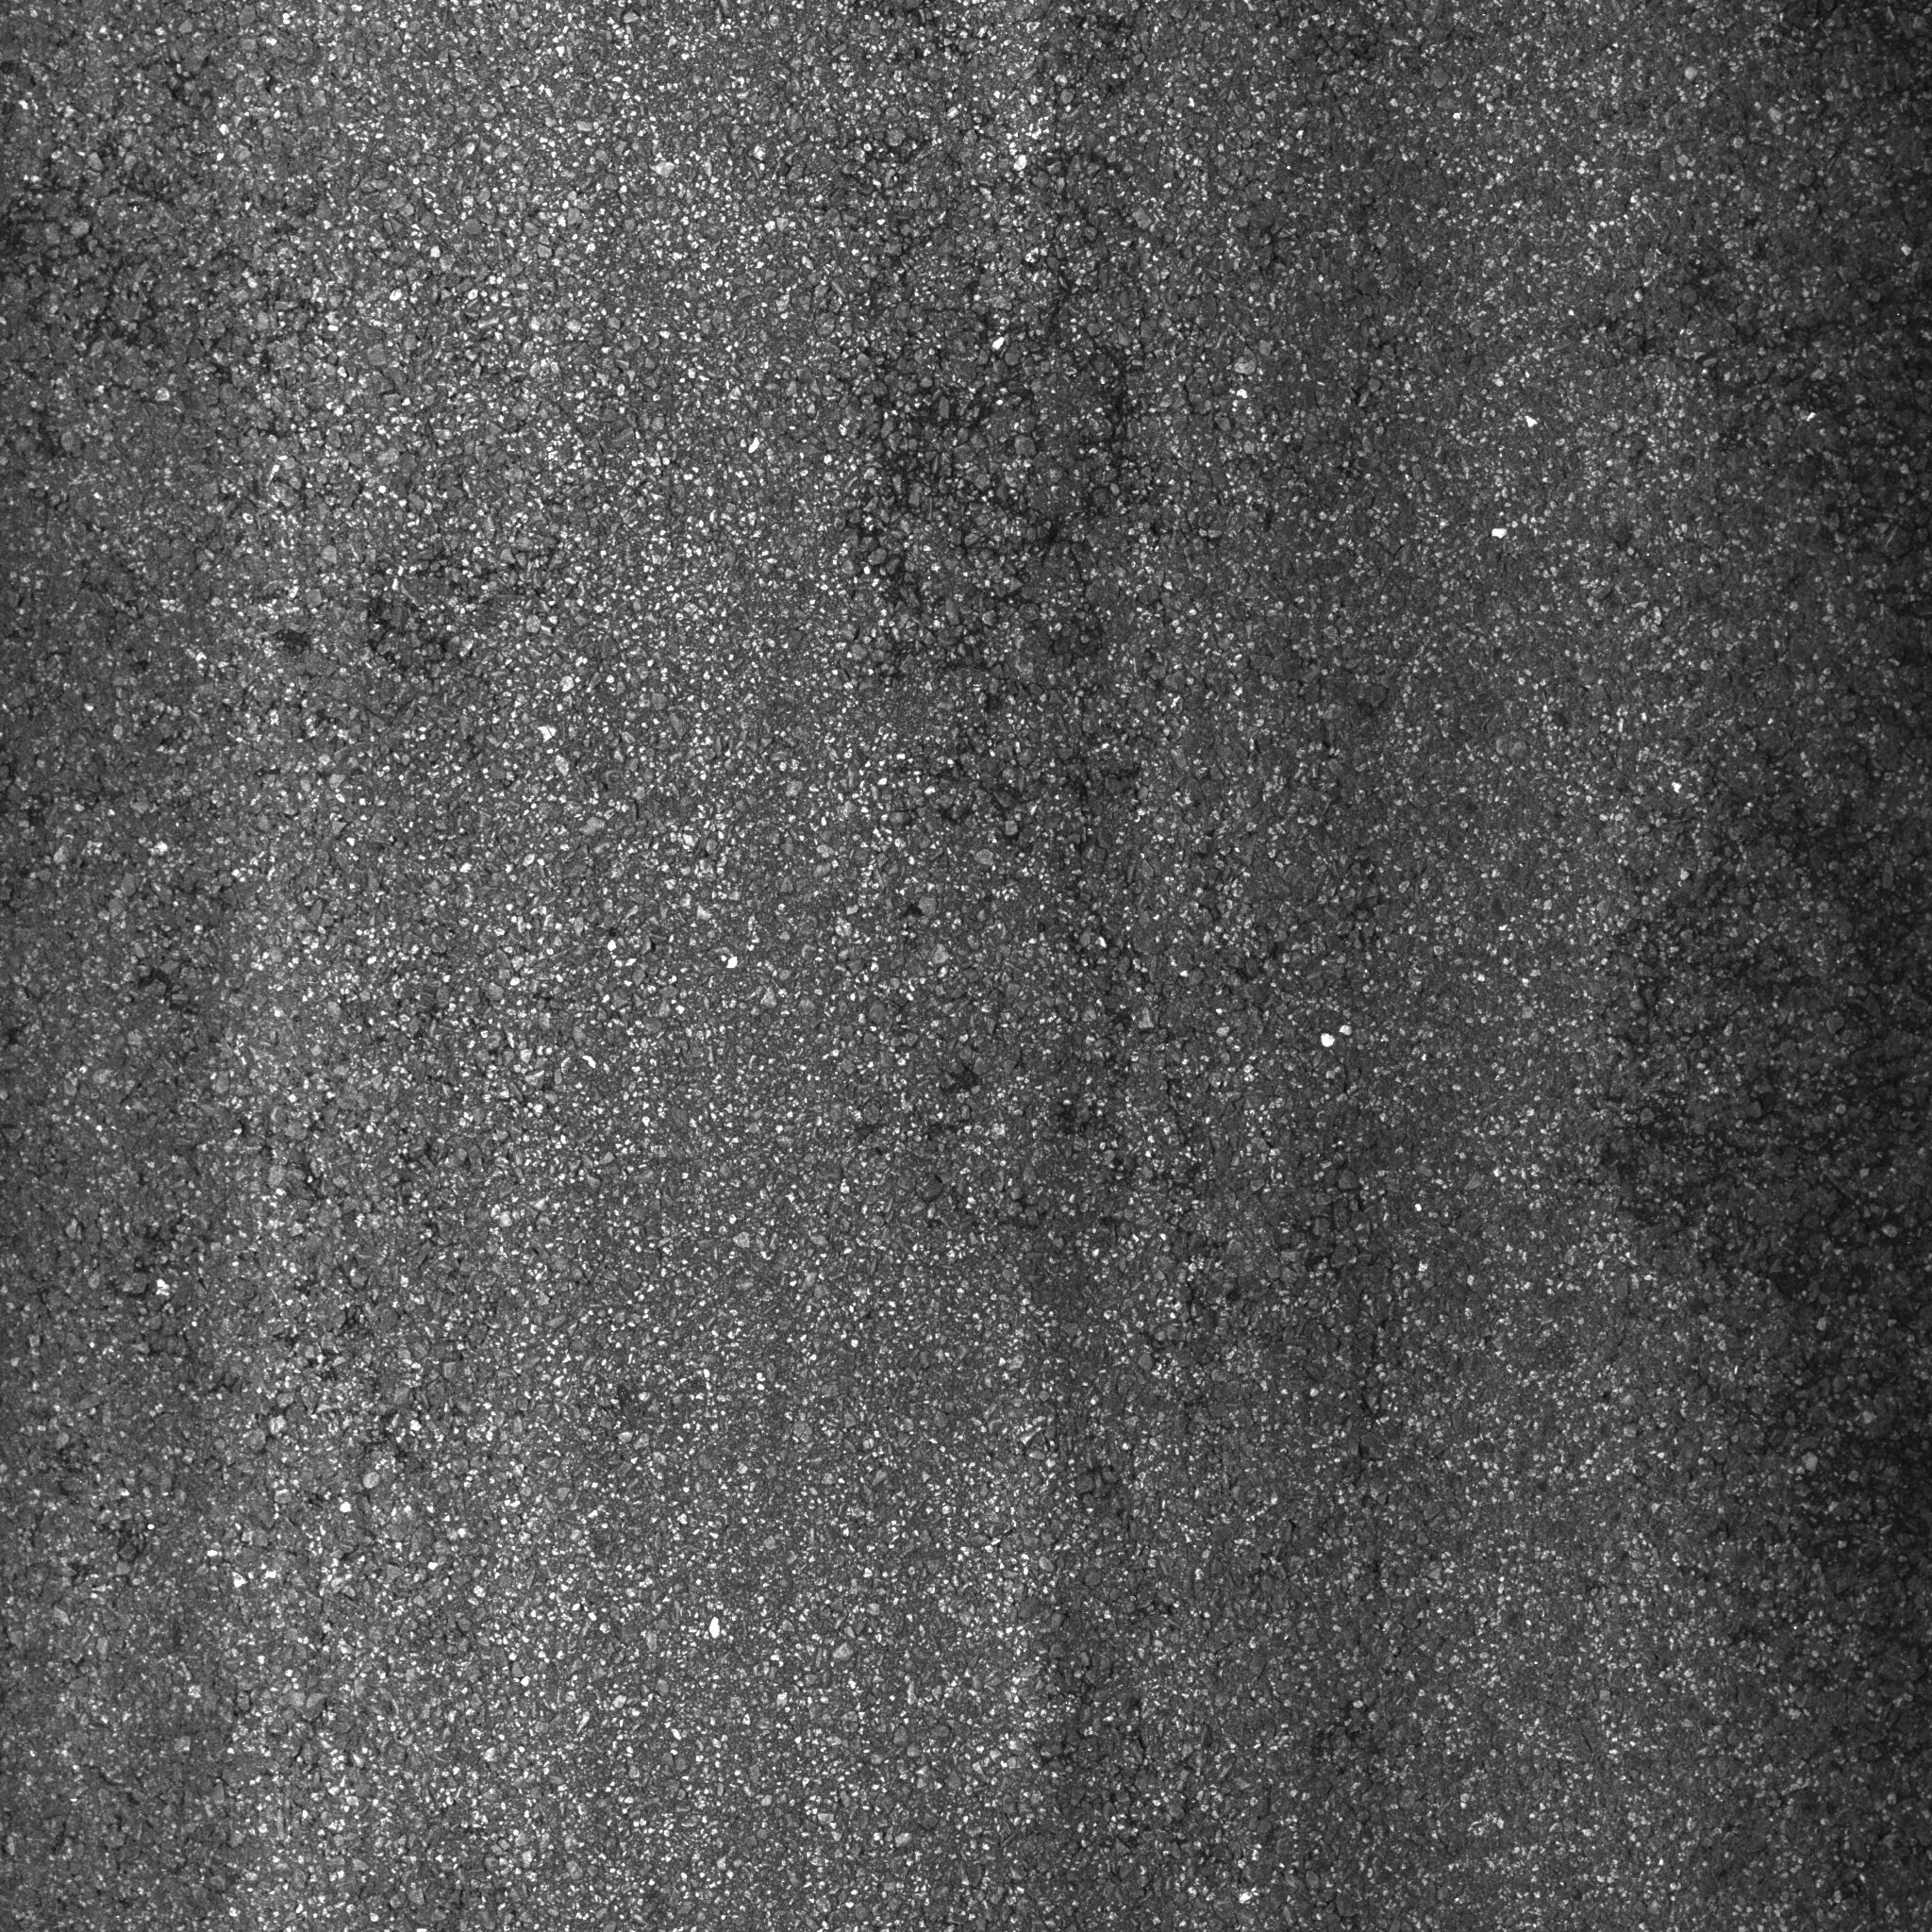alligator: (621, 134, 1375, 1132)
